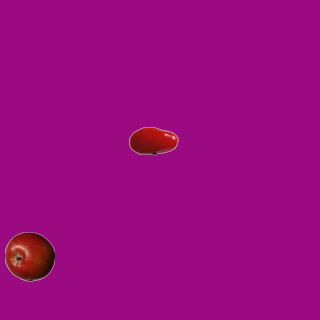Apple Braeburn: (4, 231, 54, 281)
Tomato 2: (128, 115, 178, 165)
